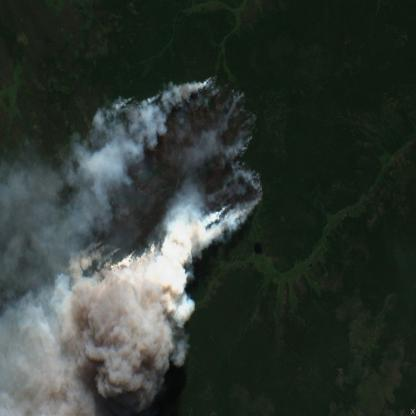fire: (60, 71, 264, 305)
